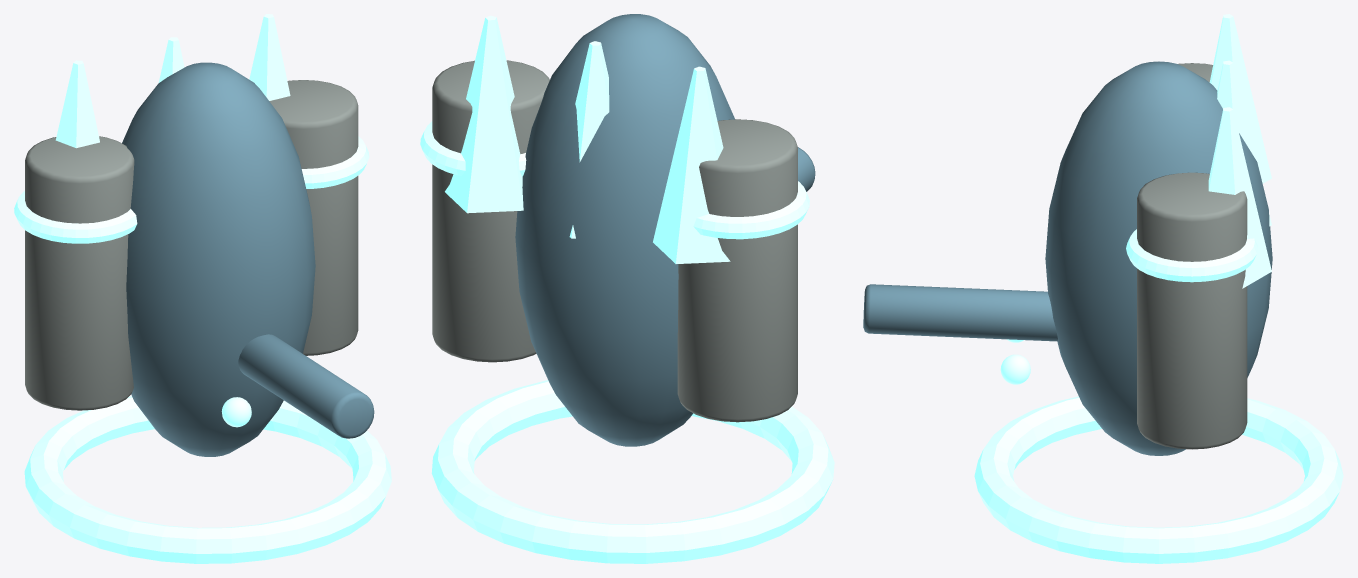
Rendered from card_p1_disruptor.glb.
3 views of the same model, side by side, from view 1: azimuth 30°, elevation 25°; view 2: azimuth 150°, elevation 25°; view 3: azimuth 270°, elevation 25° (orthographic). The views are drawn at different scales.
Visible parts, largest first — view 1: card_p1_disruptor; view 2: card_p1_disruptor; view 3: card_p1_disruptor.
Boxes of the visible parts, left/top/right/bottom form: card_p1_disruptor: left=14, top=14, right=391, bottom=563; card_p1_disruptor: left=420, top=14, right=834, bottom=563; card_p1_disruptor: left=863, top=14, right=1343, bottom=563.
Bounding box in the file's own units: 1.42 × 1.73 × 1.74.
